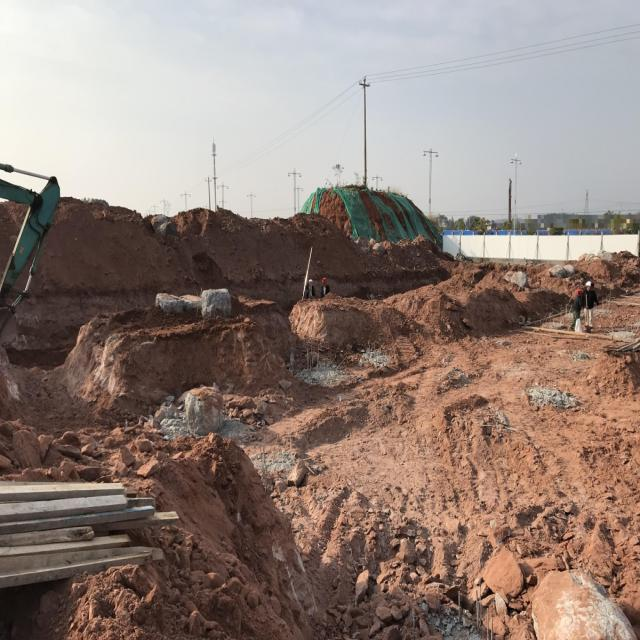excavator: (0, 163, 60, 346)
